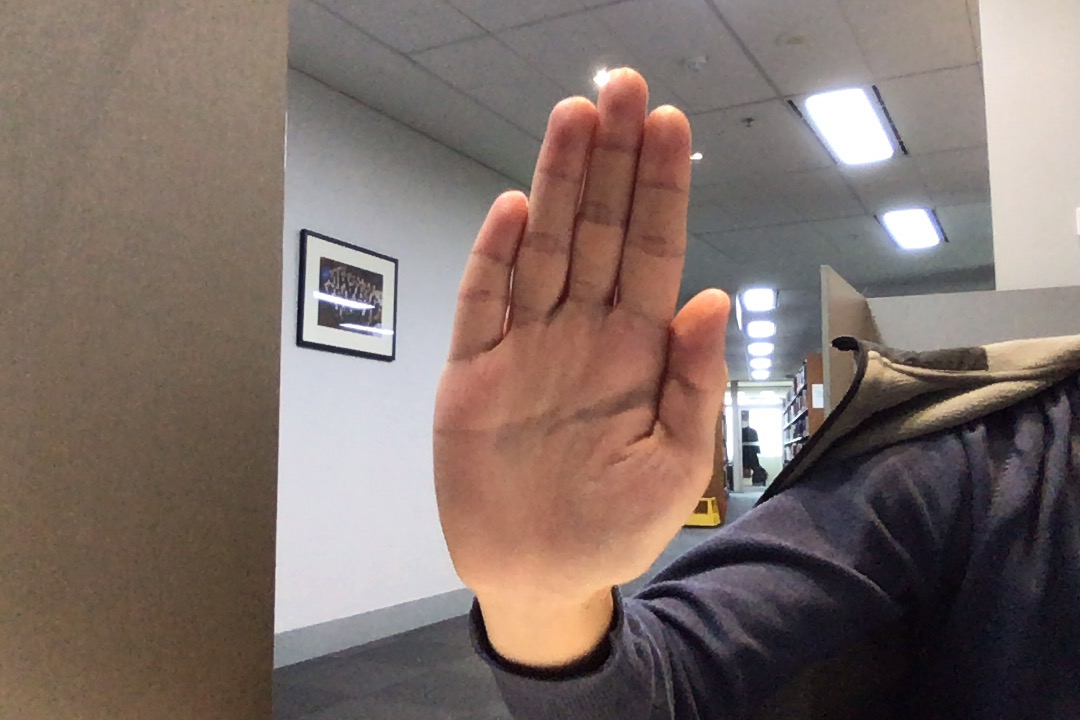palmhand: (419, 60, 738, 610)
